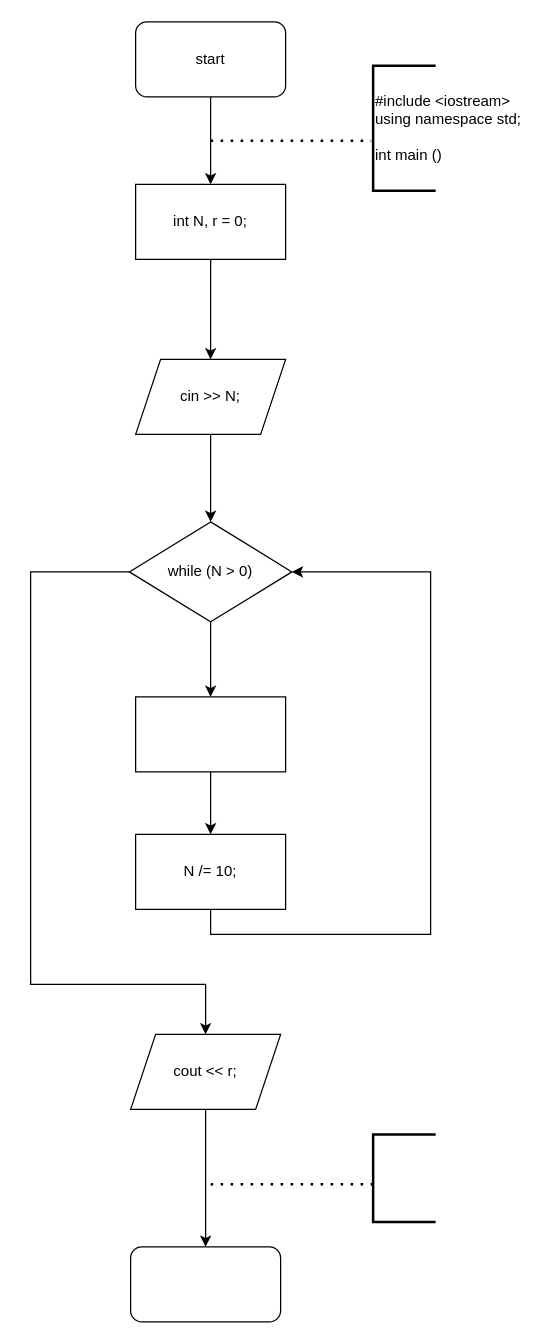
Image size: 544x1344. Some labels were removed from this diagram. The centre of each missing label's shape, as x and y in pixels:
"end" goes at [205,1284].
"r = r * 10 + N % 10;" goes at [210,734].
"return 0;" goes at [403,1177].
